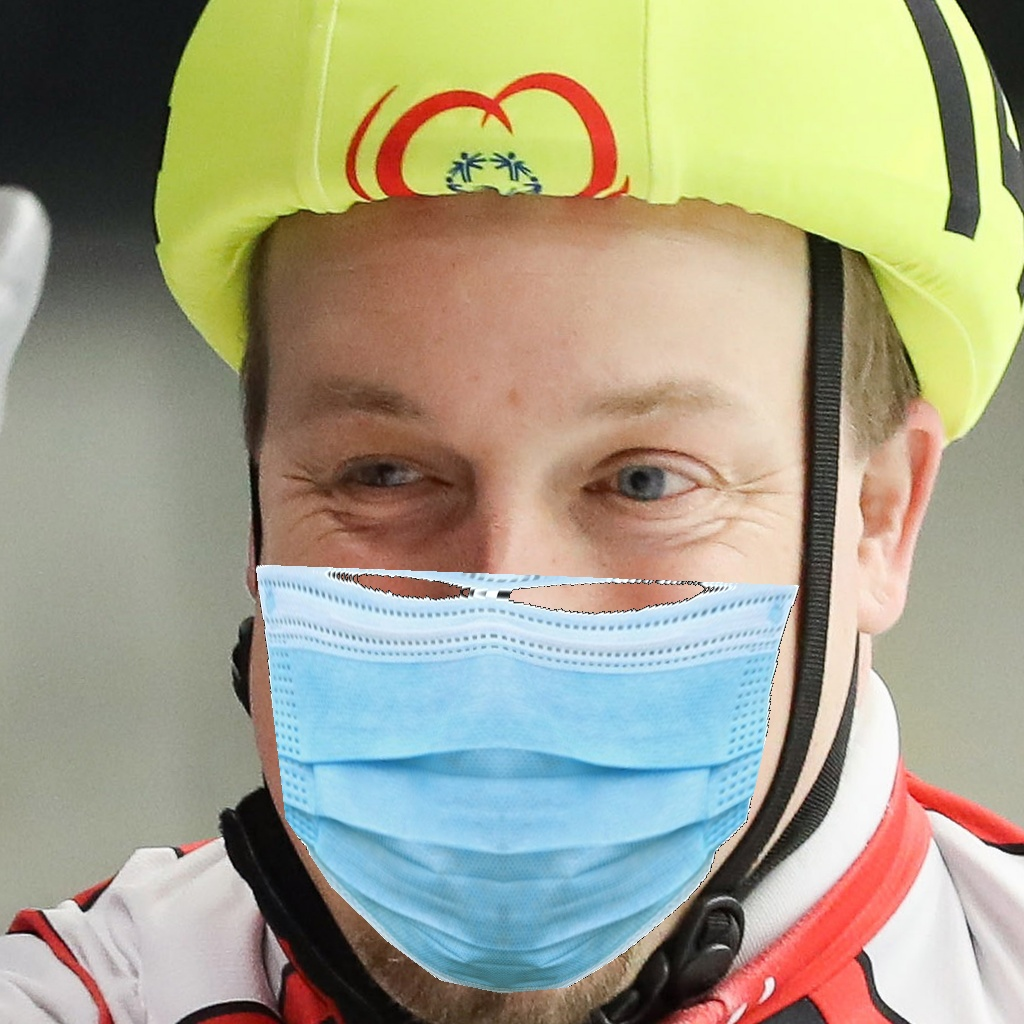Mask: (248, 350, 834, 991)
